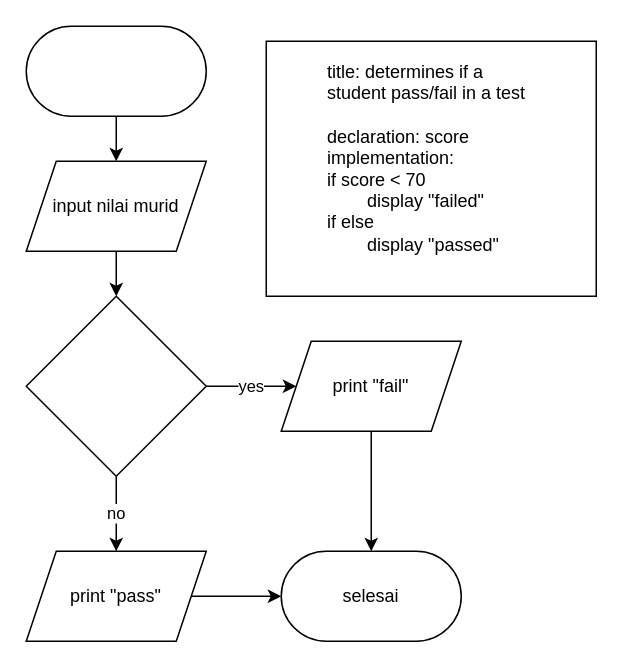
Image size: 623x668. Some labels were removed from this diagram. The shapes that lost their labels are listed below. From the top down, each one's centre as x and y in pixels, then its label:
At (115,70): "mulai".
At (115,385): "nilai < 70?".
